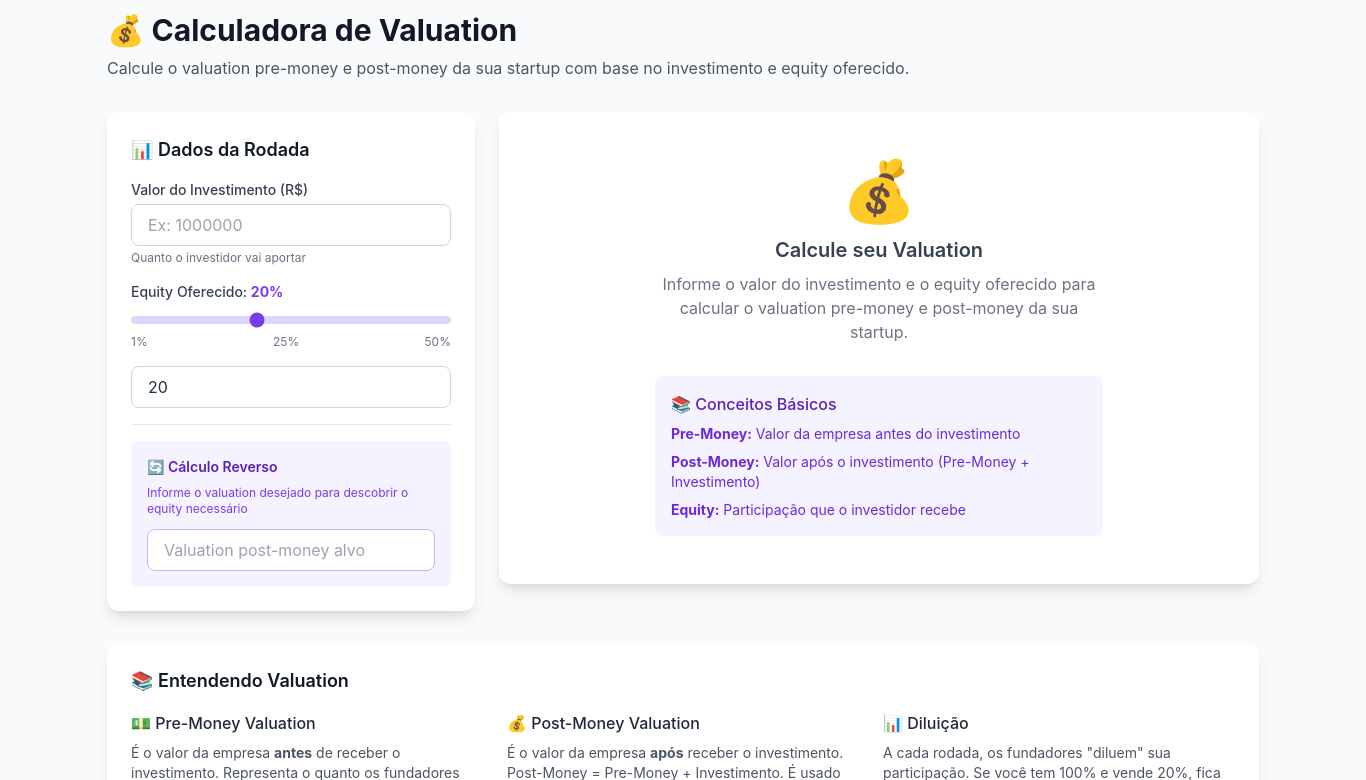
Test: CalculadoraValuation - Calculadora de Valuation › Cálculo Reverso › deve calcular equity necessário para valuation alvo
Type "1000000" into the number field with placeholder "Ex: 1000000".
click(291, 225); type("1000000")  # box left=131, top=204, right=451, bottom=246
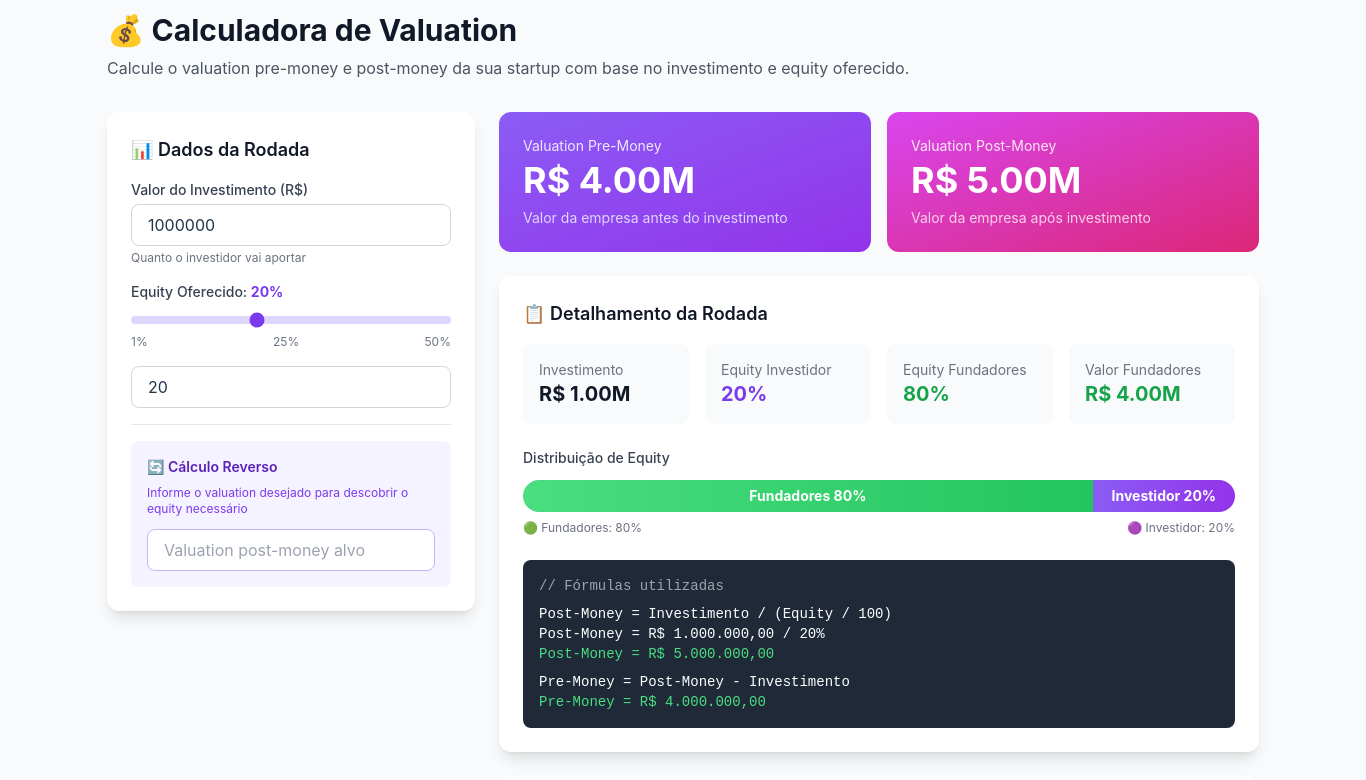
Type "10000000" into the number field with placeholder "Valuation post-money alvo".
click(291, 550); type("10000000")  # box left=147, top=529, right=435, bottom=571
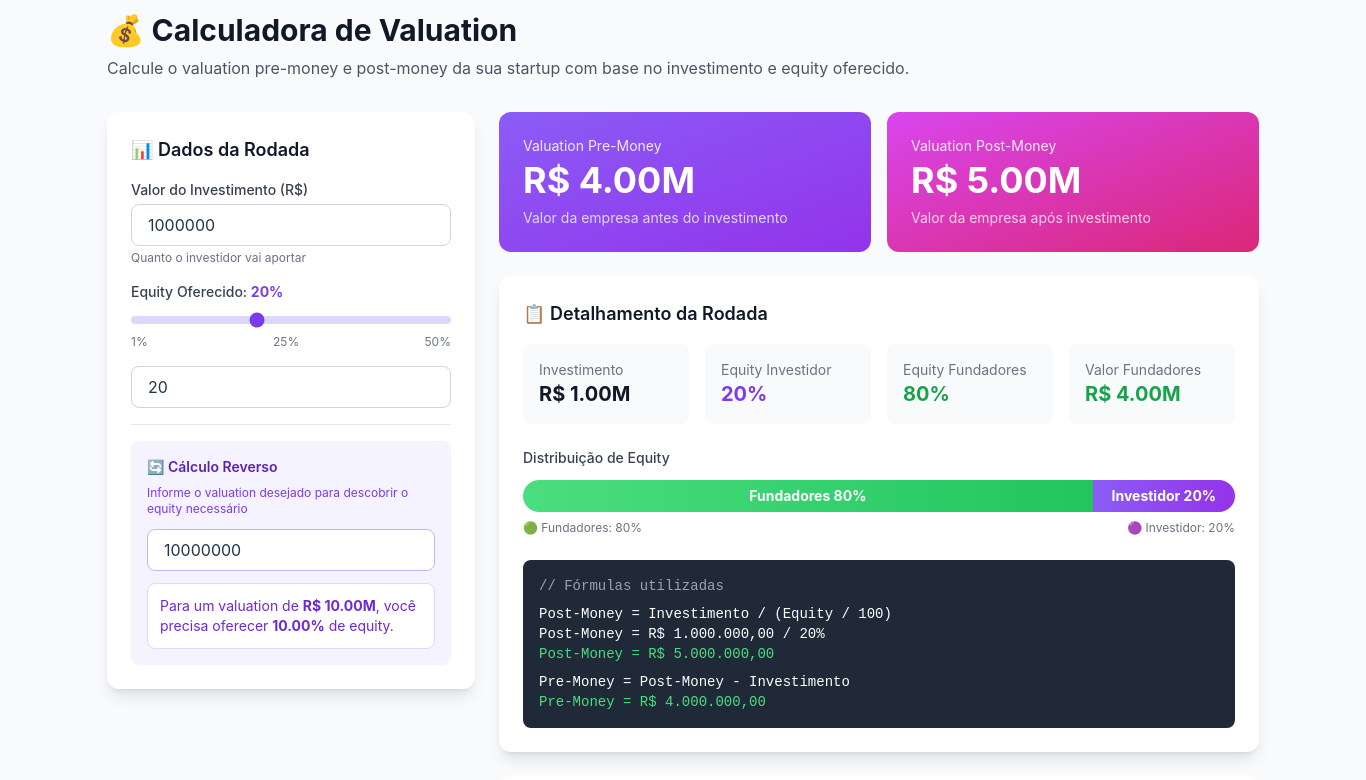
Expected: the text "você precisa oferecer" is shown, left=160, top=597, right=416, bottom=634
Expected: the text "10.00%" is shown, left=272, top=617, right=325, bottom=634
